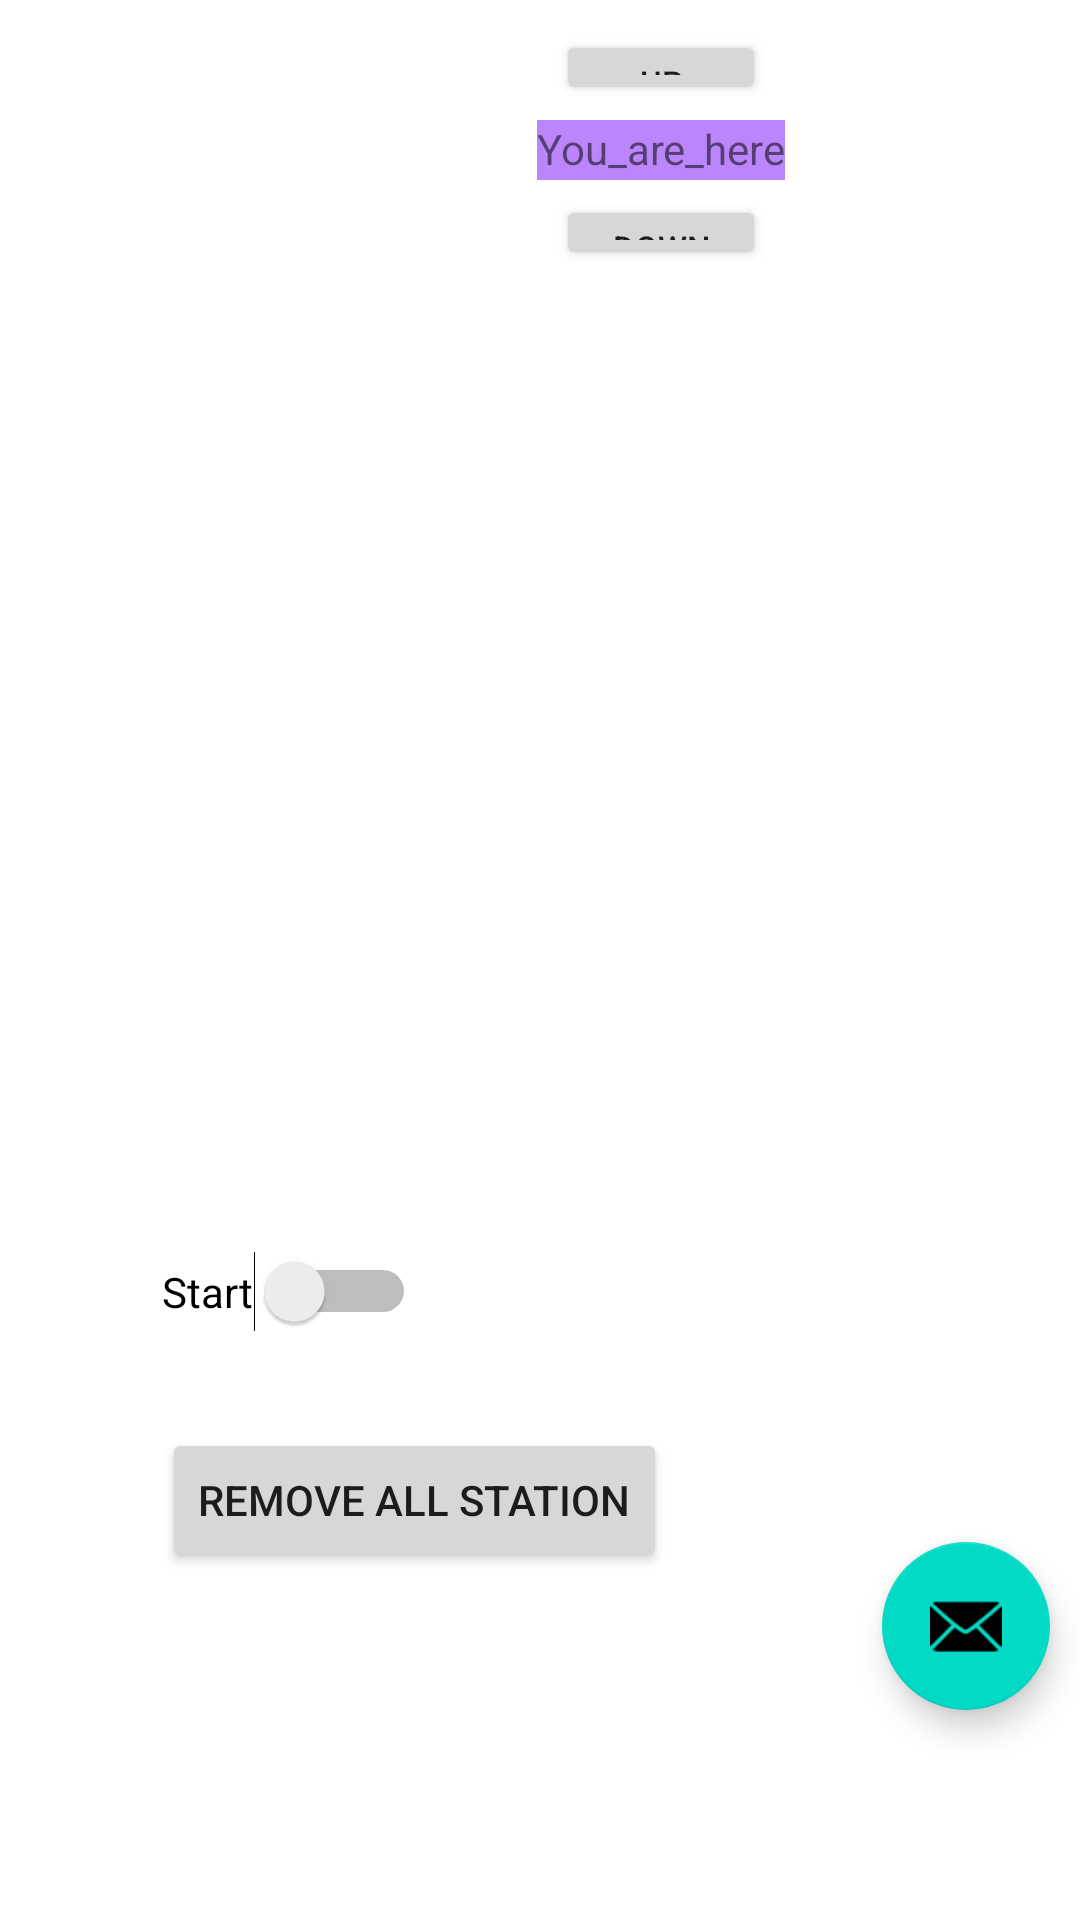

Named icons in this screenshot (1080 × 1920) and their centers, (x=x, y=y):
email: (x=966, y=1626)
